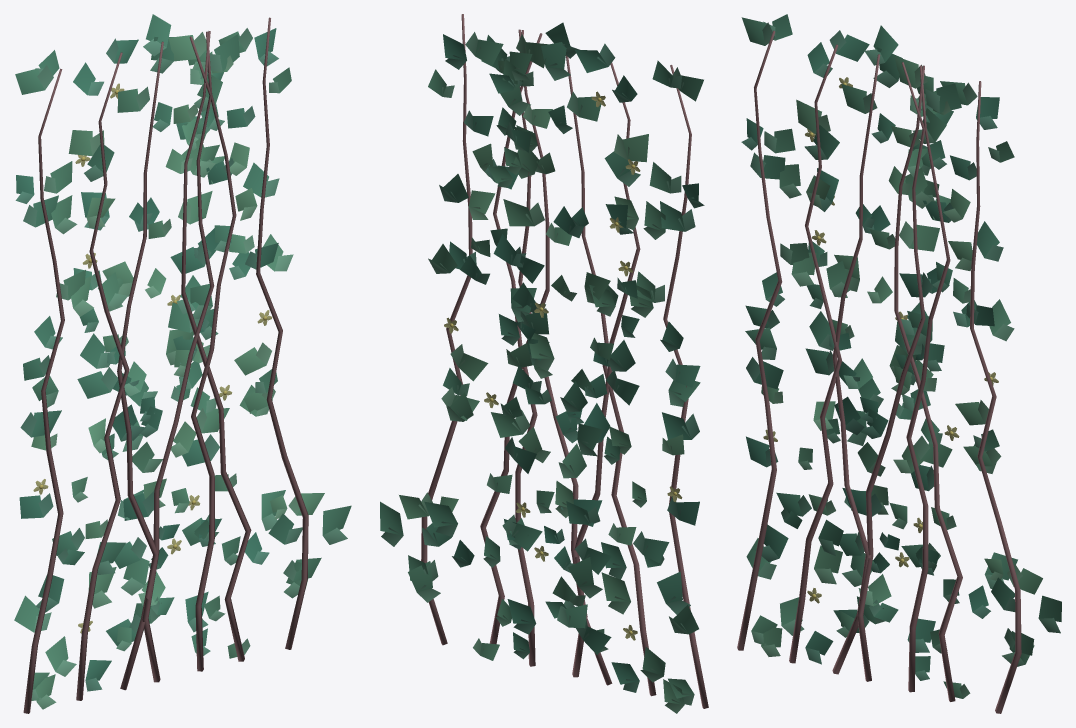
File: climb_ivy_panel.glb
3 renders of one model, left to right at view 1: azimuth 30°, elevation 25°; view 2: azimuth 150°, elevation 25°; view 3: azimuth 330°, elevation 25°, orthographic.
Visible parts, largest first — view 1: climb_ivy_panel; view 2: climb_ivy_panel; view 3: climb_ivy_panel.
Part boxes in pixels (x1=…): climb_ivy_panel: x1=14, y1=14, x2=351, y2=713; climb_ivy_panel: x1=380, y1=14, x2=708, y2=713; climb_ivy_panel: x1=737, y1=14, x2=1061, y2=713.
Size of what is drawn, in the model's own units: 2.18 by 4.2 by 0.172.
